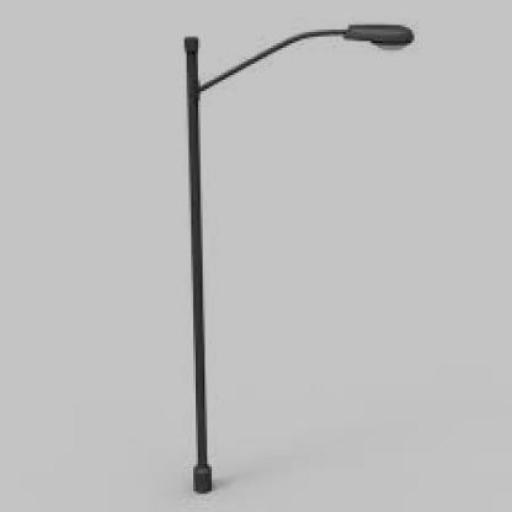street light: (182, 24, 414, 494)
